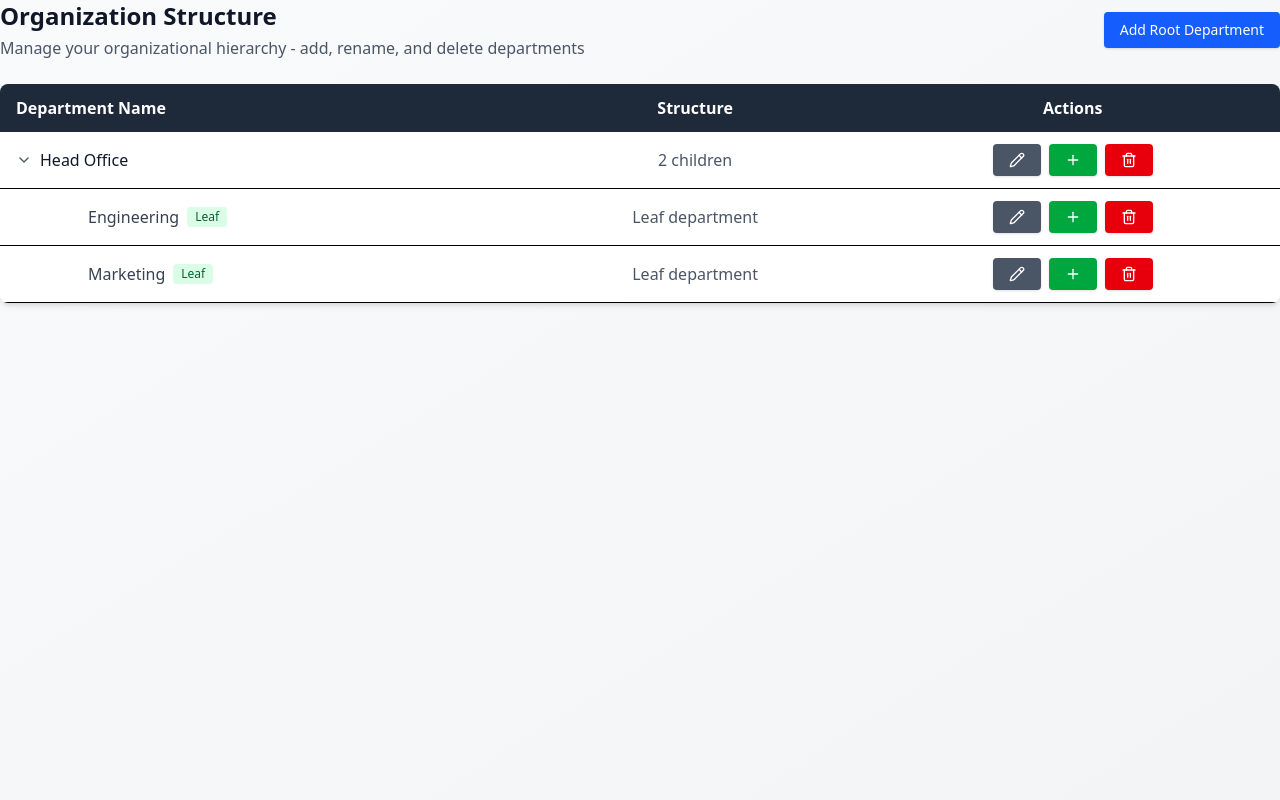
it: OrganizationStructure Integration › Rename Department › should open modal when Rename button is clicked
Check: the text "Engineering" is shown, box [88, 205, 179, 229]
Click the button titled "Rename Department" in the row of "Head Office": (1017, 160) [993, 144, 1041, 176]
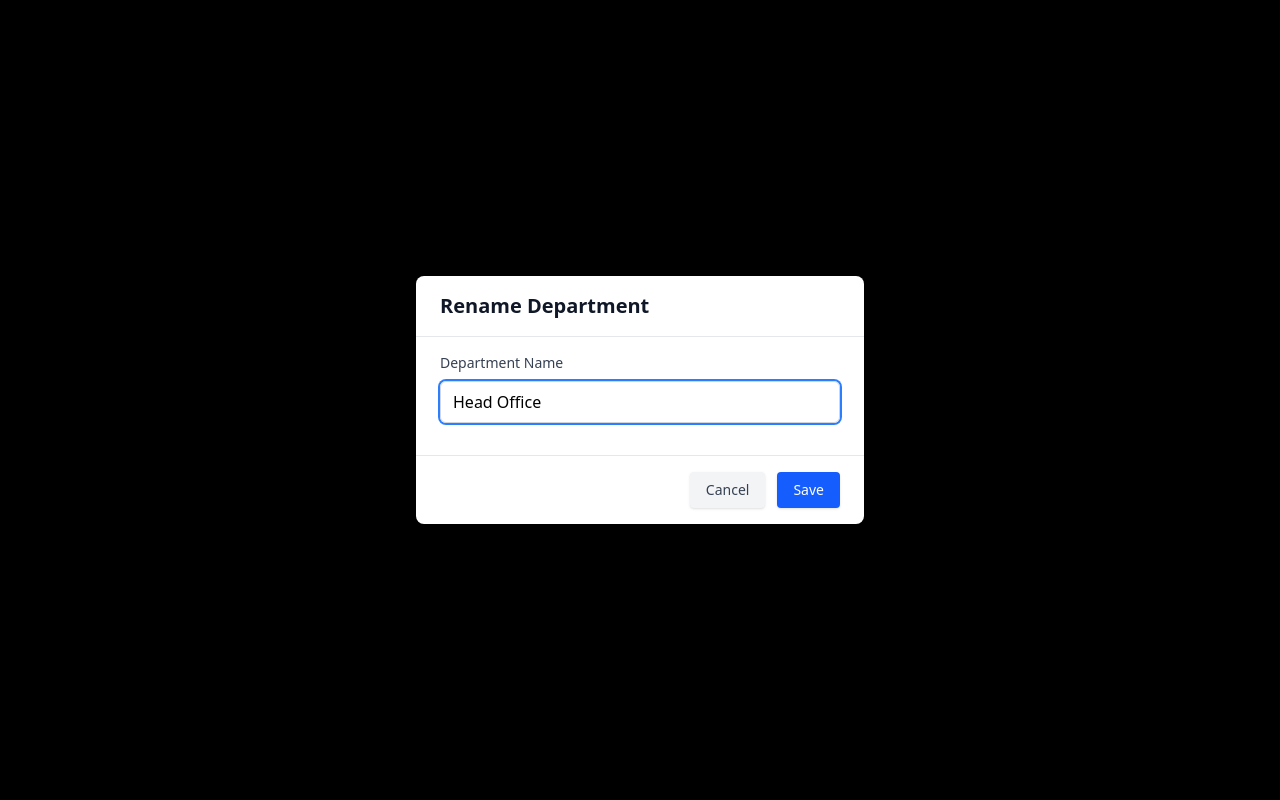
Check: the heading "Rename Department" is shown, box [440, 292, 649, 319]
